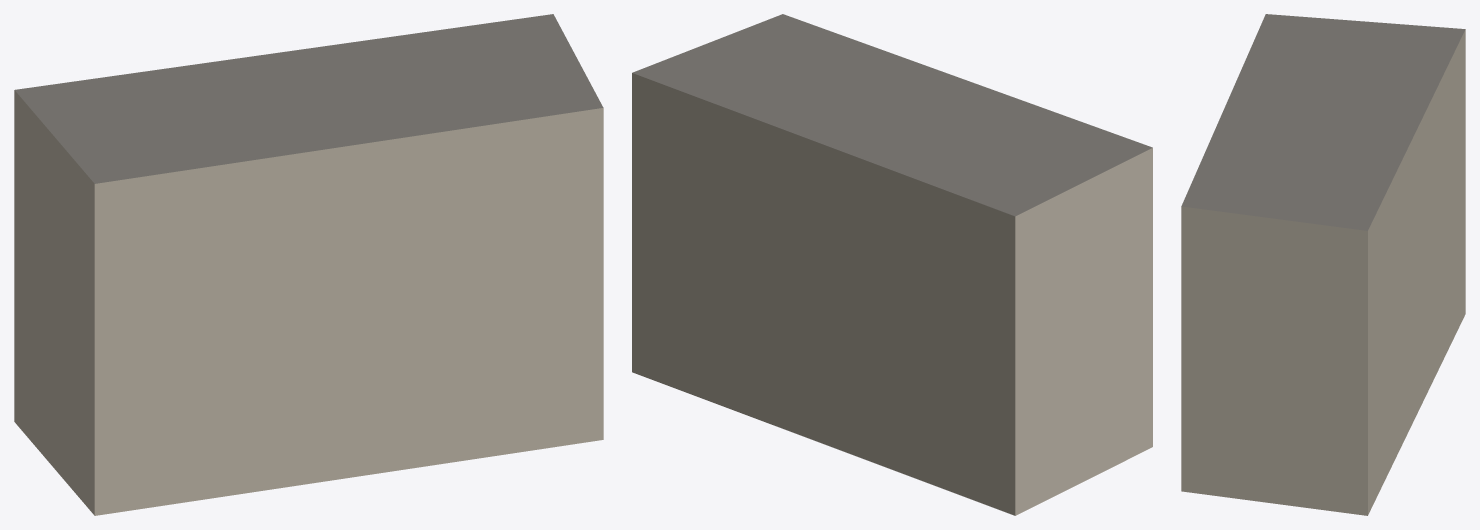
3 views of the same model, side by side, from view 1: azimuth 30°, elevation 25°; view 2: azimuth 150°, elevation 25°; view 3: azimuth 270°, elevation 25° (orthographic). The views are drawn at different scales.
Parts seen in each view (by area): view 1: HP-w505664427; view 2: HP-w505664427; view 3: HP-w505664427.
Boxes of the visible parts, box(x1,y1,x2,y2) form: HP-w505664427: box(14, 14, 603, 515); HP-w505664427: box(632, 14, 1152, 515); HP-w505664427: box(1181, 14, 1465, 515).
Bounding box in the file's own units: 29.4 × 18 × 16.28.
